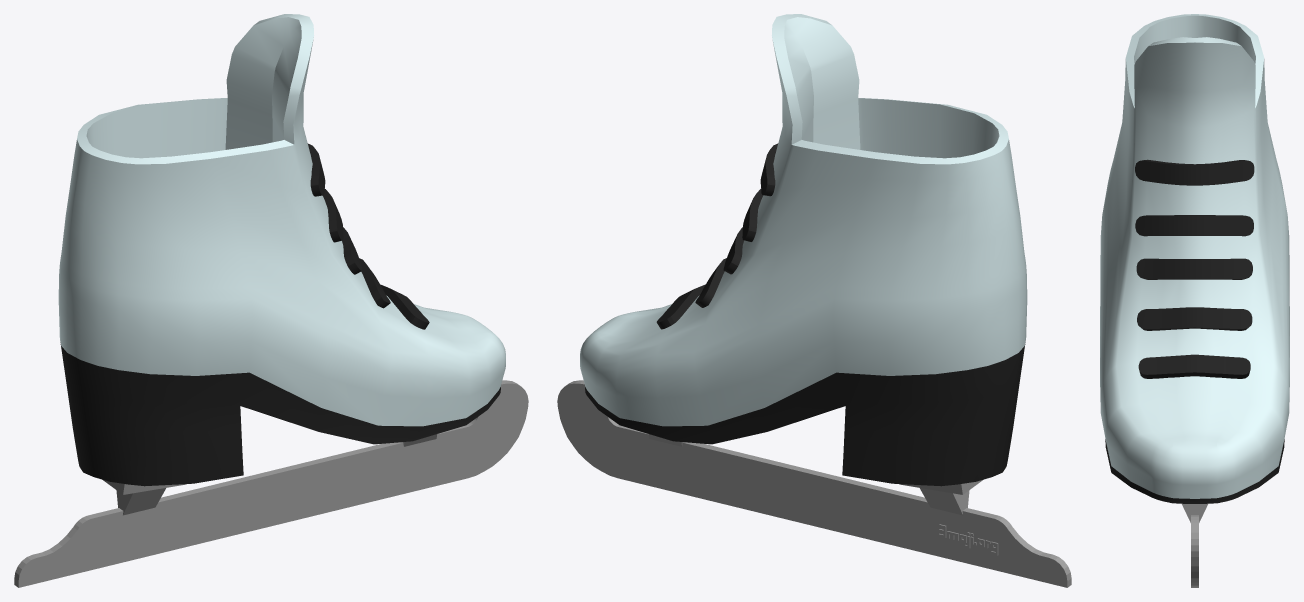
The model's file is ice_skate.glb.
3 views of the same model, side by side, from view 1: azimuth 30°, elevation 25°; view 2: azimuth 150°, elevation 25°; view 3: azimuth 270°, elevation 25° (orthographic). The views are drawn at different scales.
Visible parts, largest first — view 1: Plane.307; view 2: Plane.307; view 3: Plane.307.
Boxes of the visible parts, x1,y1,x2,y2 form: Plane.307: [14, 14, 528, 587]; Plane.307: [557, 14, 1071, 587]; Plane.307: [1100, 14, 1289, 587].
Bounding box in the file's own units: 2.29 × 2.13 × 0.7845.
Materials: 1 (1 with a texture image).
